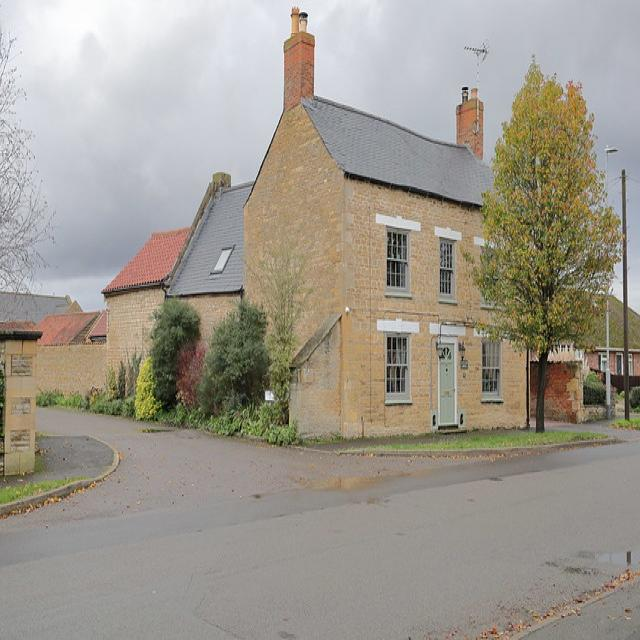Normal_building: (240, 12, 530, 442)
